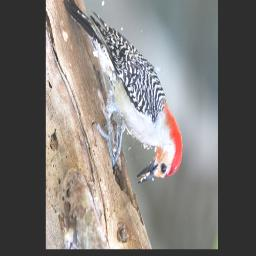Woodpecker: (62, 0, 182, 183)
